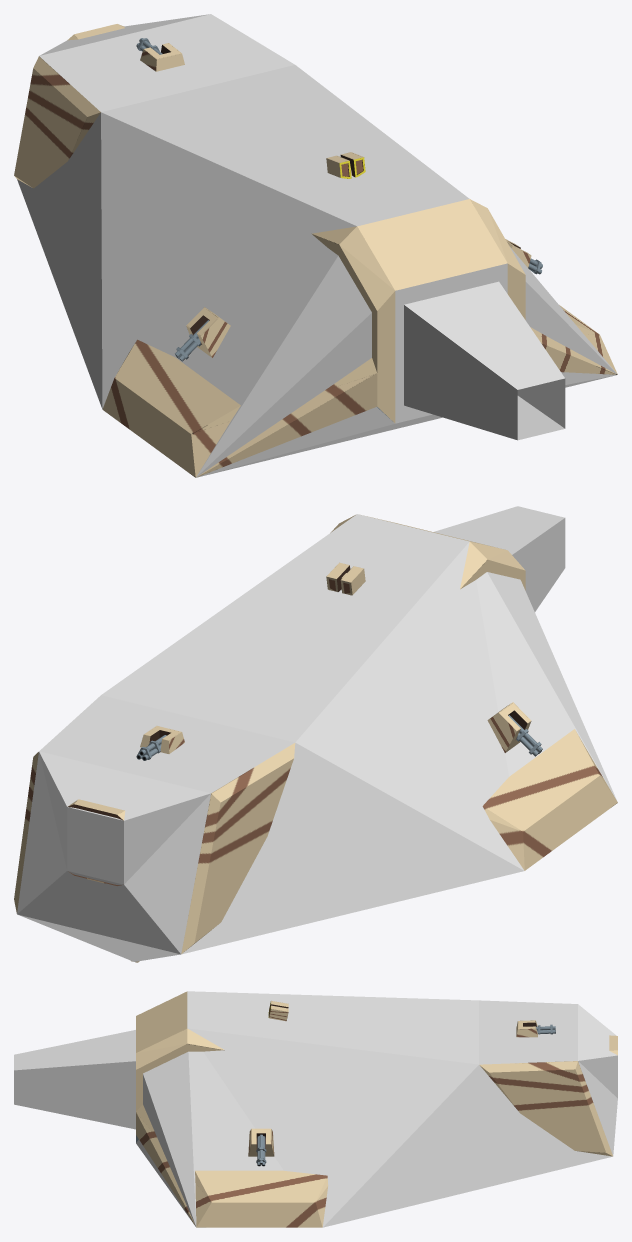
3 renders of one model, top to bottom at view 1: azimuth 30°, elevation 25°; view 2: azimuth 150°, elevation 25°; view 3: azimuth 270°, elevation 25°, orthographic. The views are drawn at different scales.
Parts seen in each view (by area): view 1: Fuselage Extents, Debris Mesh.000, Exhaust, Fuselage, Debris Mesh.003, Debris Mesh.001, Turret Base.002, Turret Base.000, Missile Rack.000; view 2: Fuselage Extents, Fuselage, Debris Mesh.001, Exhaust, Debris Mesh.003, Debris Mesh.000, Debris Mesh.002, Turret Base.002, Missile Rack.000, Turret Base.000; view 3: Fuselage Extents, Debris Mesh.000, Exhaust, Debris Mesh.002, Fuselage, Turret Base.003, Turret Base.000, Missile Rack.000.
Boxes of the visible parts, left/top/right/bottom form: Fuselage Extents: left=17, top=14, right=617, bottom=477; Debris Mesh.000: left=282, top=199, right=617, bottom=440; Exhaust: left=404, top=281, right=565, bottom=440; Fuselage: left=15, top=24, right=537, bottom=476; Debris Mesh.003: left=102, top=339, right=289, bottom=477; Debris Mesh.001: left=14, top=56, right=100, bottom=188; Turret Base.002: left=186, top=307, right=230, bottom=357; Turret Base.000: left=140, top=43, right=184, bottom=71; Missile Rack.000: left=326, top=152, right=365, bottom=178; Fuselage Extents: left=17, top=514, right=617, bottom=961; Fuselage: left=14, top=548, right=614, bottom=962; Debris Mesh.001: left=181, top=743, right=294, bottom=953; Exhaust: left=433, top=506, right=565, bottom=611; Debris Mesh.003: left=483, top=729, right=617, bottom=870; Debris Mesh.000: left=330, top=515, right=525, bottom=590; Debris Mesh.002: left=14, top=752, right=139, bottom=962; Turret Base.002: left=487, top=702, right=531, bottom=752; Missile Rack.000: left=326, top=562, right=365, bottom=595; Turret Base.000: left=140, top=726, right=184, bottom=753; Fuselage Extents: left=136, top=991, right=617, bottom=1227; Debris Mesh.000: left=136, top=991, right=328, bottom=1227; Exhaust: left=14, top=1030, right=135, bottom=1129; Debris Mesh.002: left=480, top=1035, right=617, bottom=1156; Fuselage: left=136, top=1037, right=617, bottom=1153; Turret Base.003: left=248, top=1128, right=274, bottom=1156; Turret Base.000: left=516, top=1020, right=537, bottom=1037; Missile Rack.000: left=268, top=1001, right=288, bottom=1021.
Size of what is drawn, in the model's own units: 11.95 by 21.84 by 6.41.
4 materials, 4 textured.
